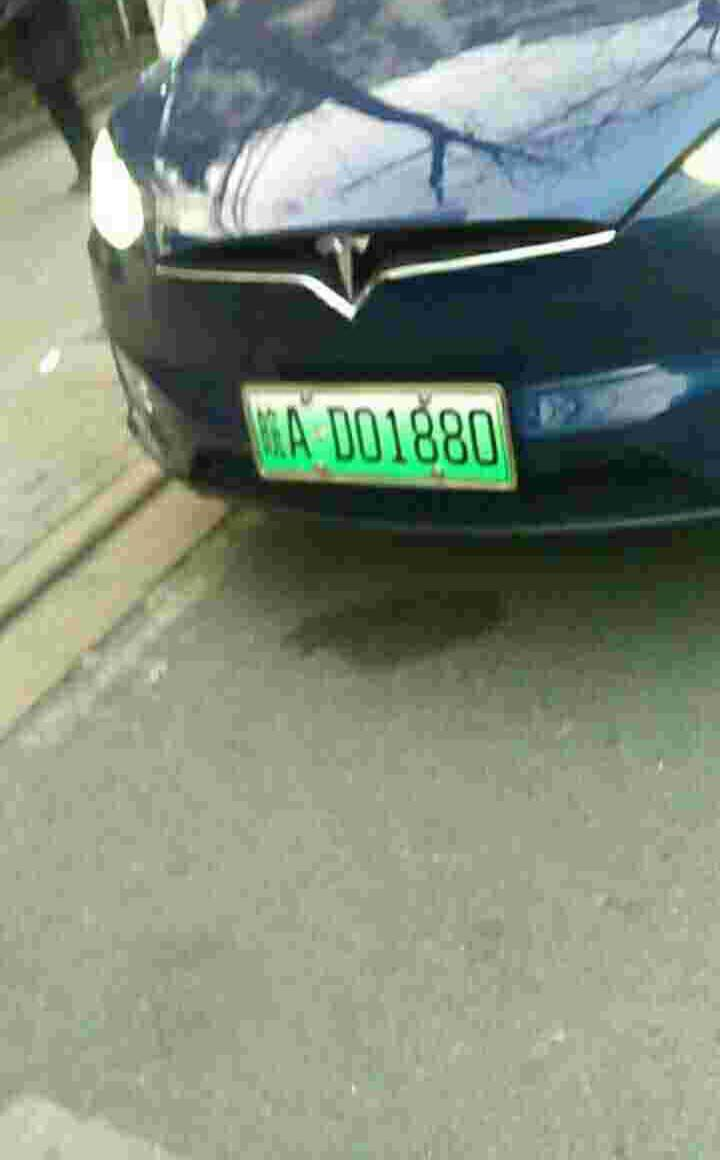car: (239, 384, 517, 482)
